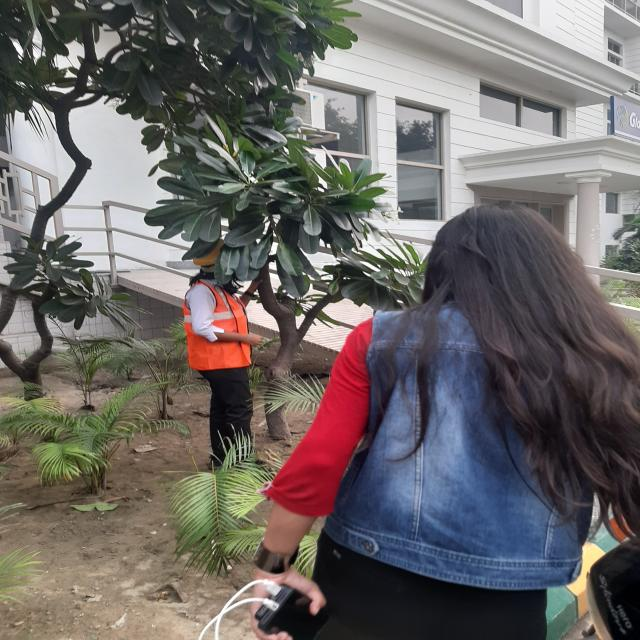safe: (178, 240, 276, 477)
unsafe: (291, 198, 626, 638)
